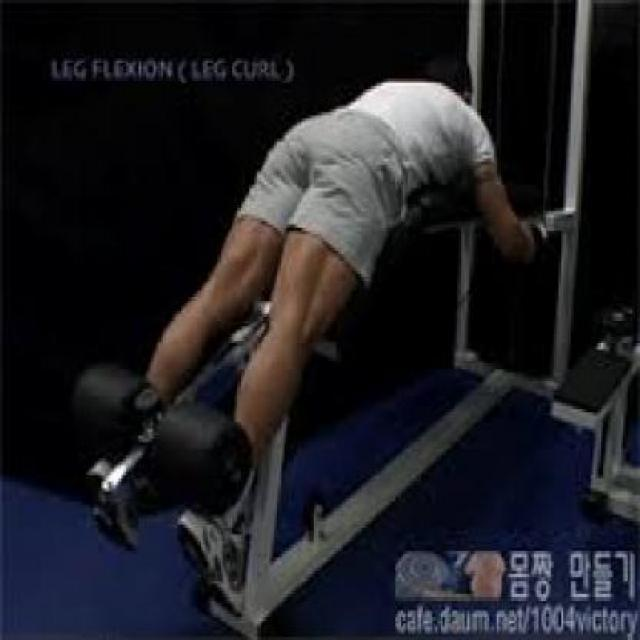reg curl machine: (70, 6, 598, 639)
